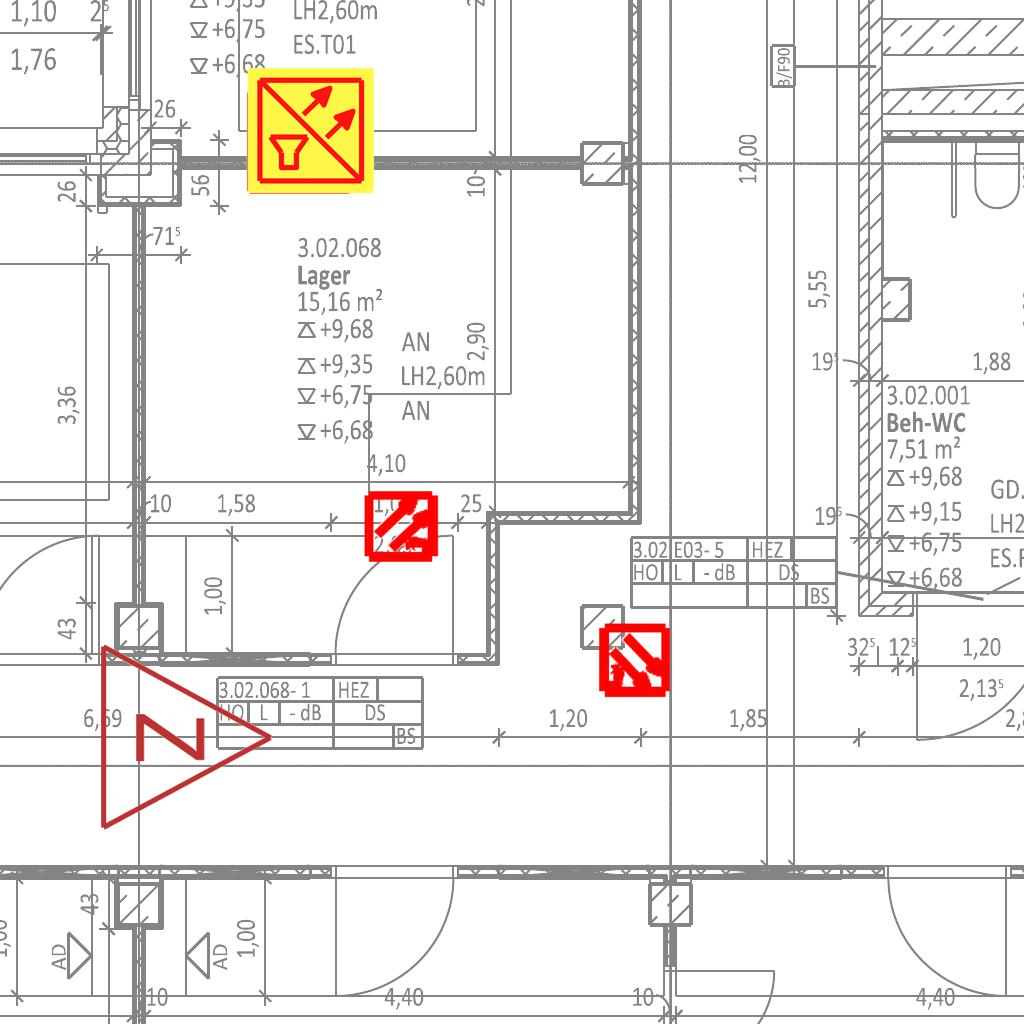OKW_Multisensormelder_(Kombination_optischer_Rauch-Kahlenmonoxid_Waerme-Melder): (245, 65, 377, 197)
OT_Multisensormelder_(Kombination_RMO_WMD): (347, 470, 460, 583), (578, 606, 691, 719)
Zimmersignalleuchte: (86, 637, 286, 833)
